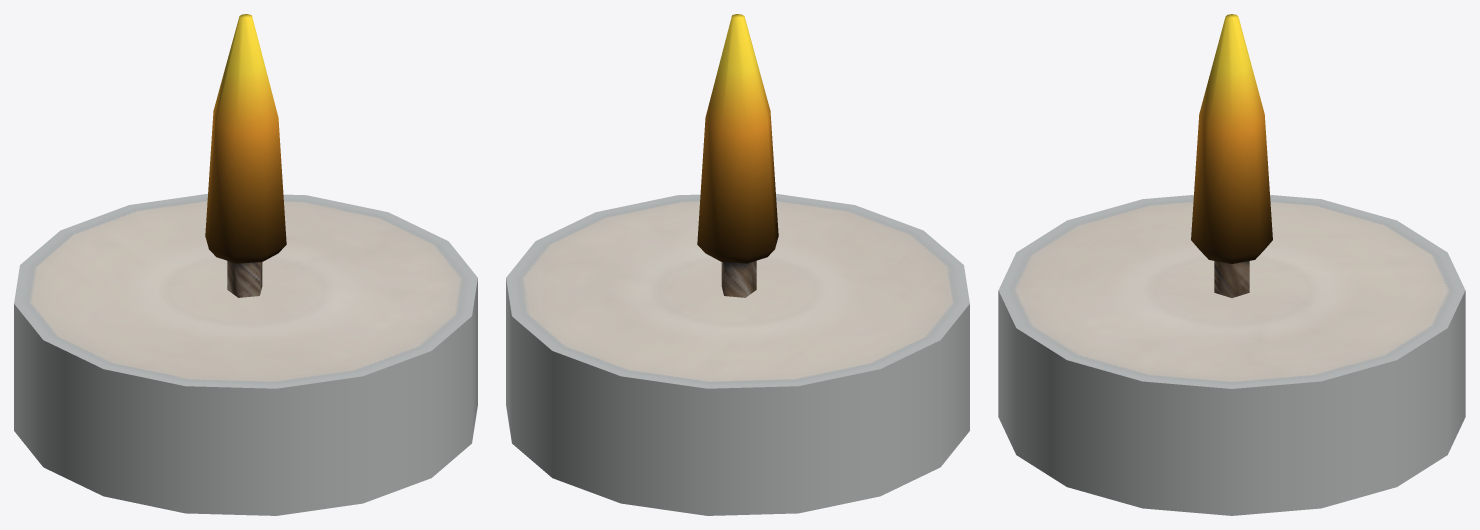
Rendered from DecorCandles01_6.FBX.
3 views of the same model, side by side, from view 1: azimuth 30°, elevation 25°; view 2: azimuth 150°, elevation 25°; view 3: azimuth 270°, elevation 25° (orthographic).
Visible parts, largest first — view 1: DecorCandles01_6; view 2: DecorCandles01_6; view 3: DecorCandles01_6.
Part boxes in pixels (x1=…): DecorCandles01_6: x1=14, y1=14, x2=477, y2=515; DecorCandles01_6: x1=506, y1=14, x2=969, y2=515; DecorCandles01_6: x1=998, y1=14, x2=1465, y2=515.
Size of what is drawn, in the model's own units: 0.095 by 0.0899 by 0.095.
